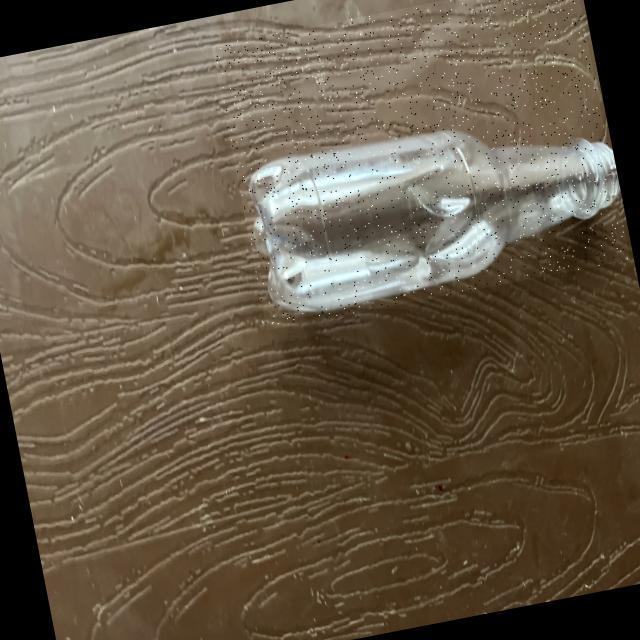PET_ClearBottle: (210, 0, 629, 329)
